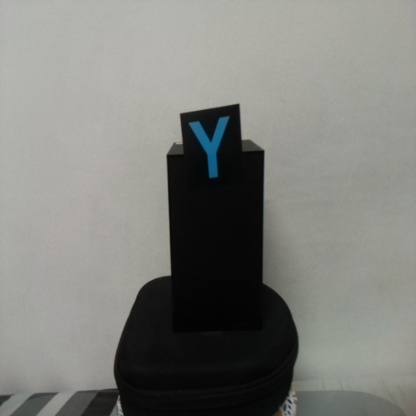id_14: (180, 113, 243, 190)
